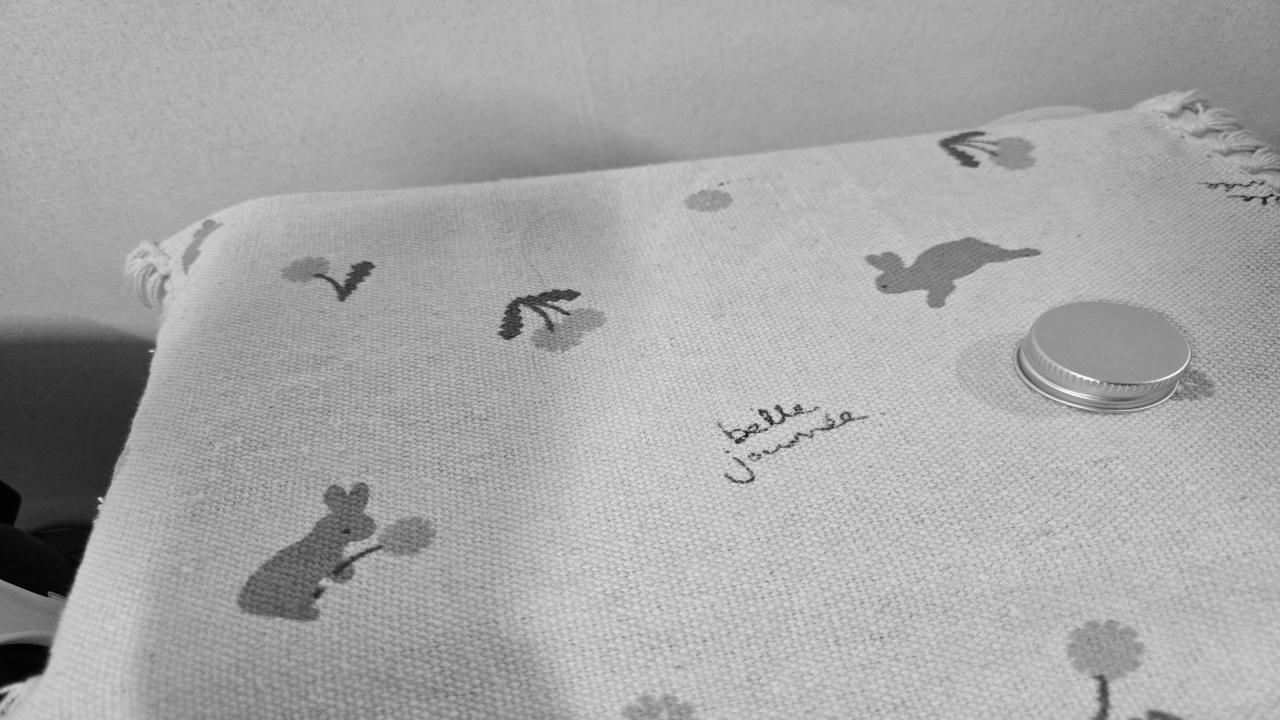bottle_cap: (1020, 302, 1190, 412)
